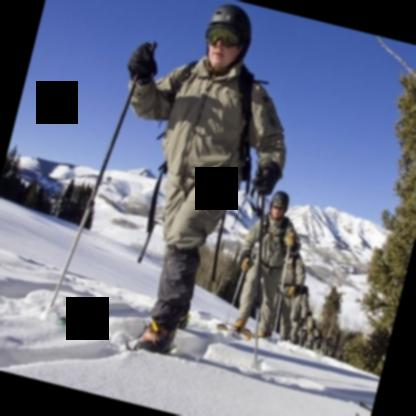backpack: (171, 60, 256, 193), (262, 213, 289, 253), (300, 286, 308, 309), (292, 254, 299, 270)
